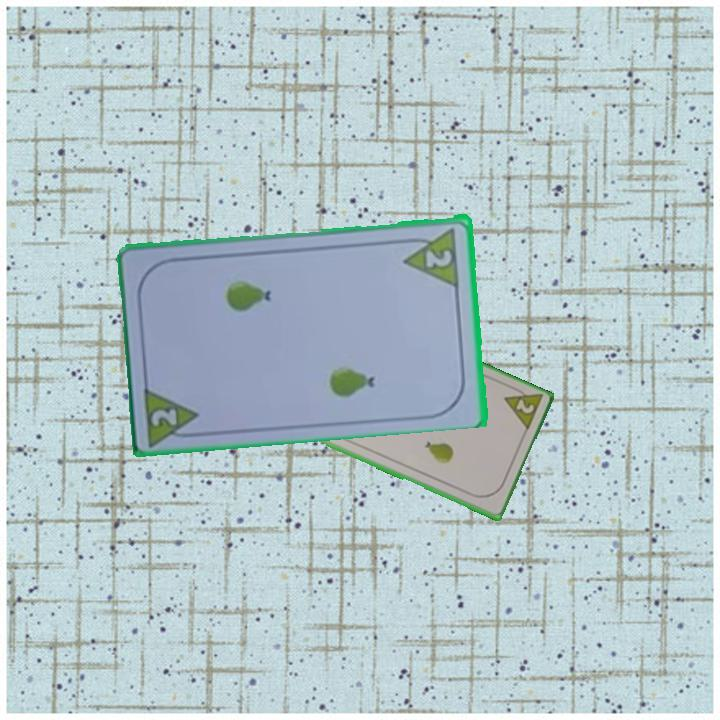2p: (140, 381, 205, 447), (400, 223, 463, 288), (499, 383, 545, 435)
